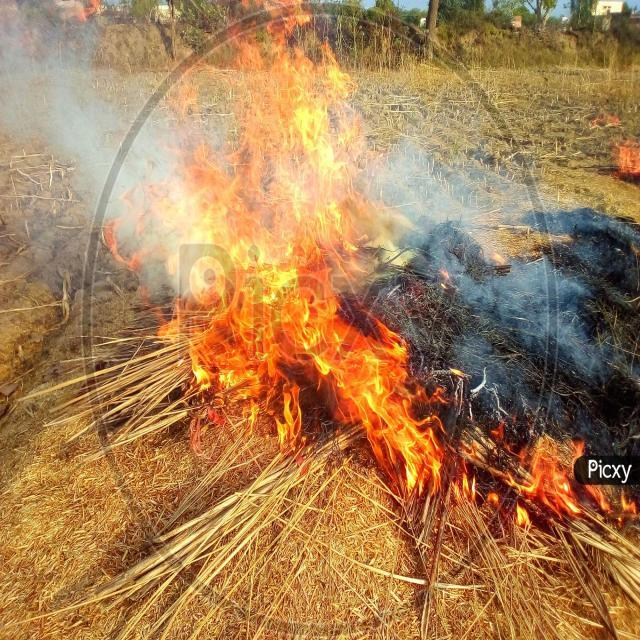Fire: (152, 150, 390, 440), (225, 2, 362, 144), (394, 385, 481, 503), (514, 436, 586, 525)
Smoke: (0, 41, 139, 202), (406, 144, 534, 303), (539, 258, 594, 376)
